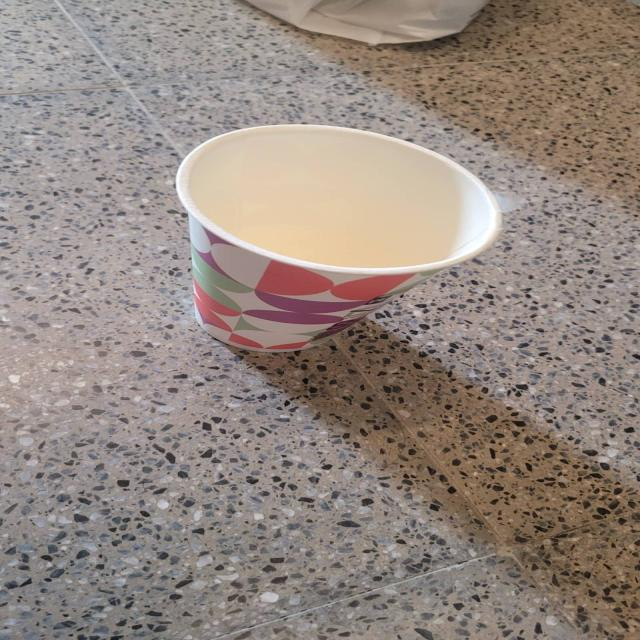Paper bowl: (166, 121, 504, 354)
